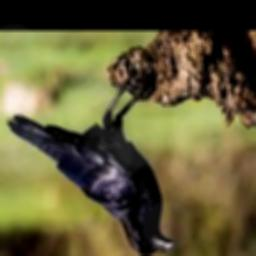Crow: (7, 74, 176, 256)
